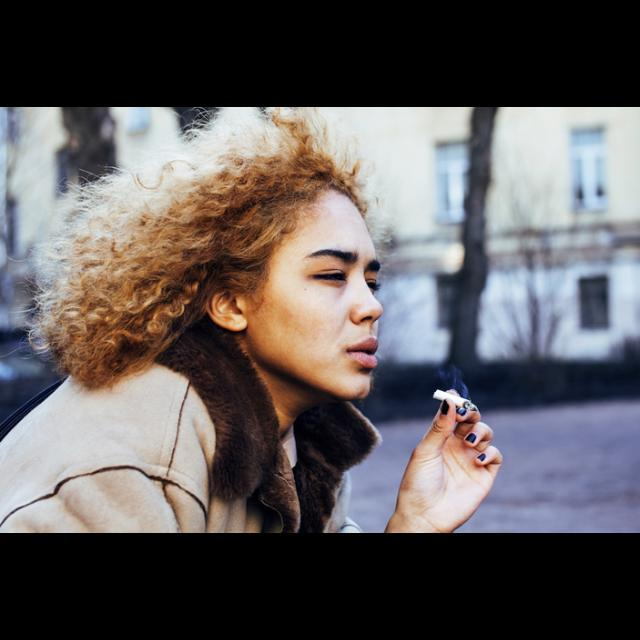rokok: (431, 384, 471, 416)
